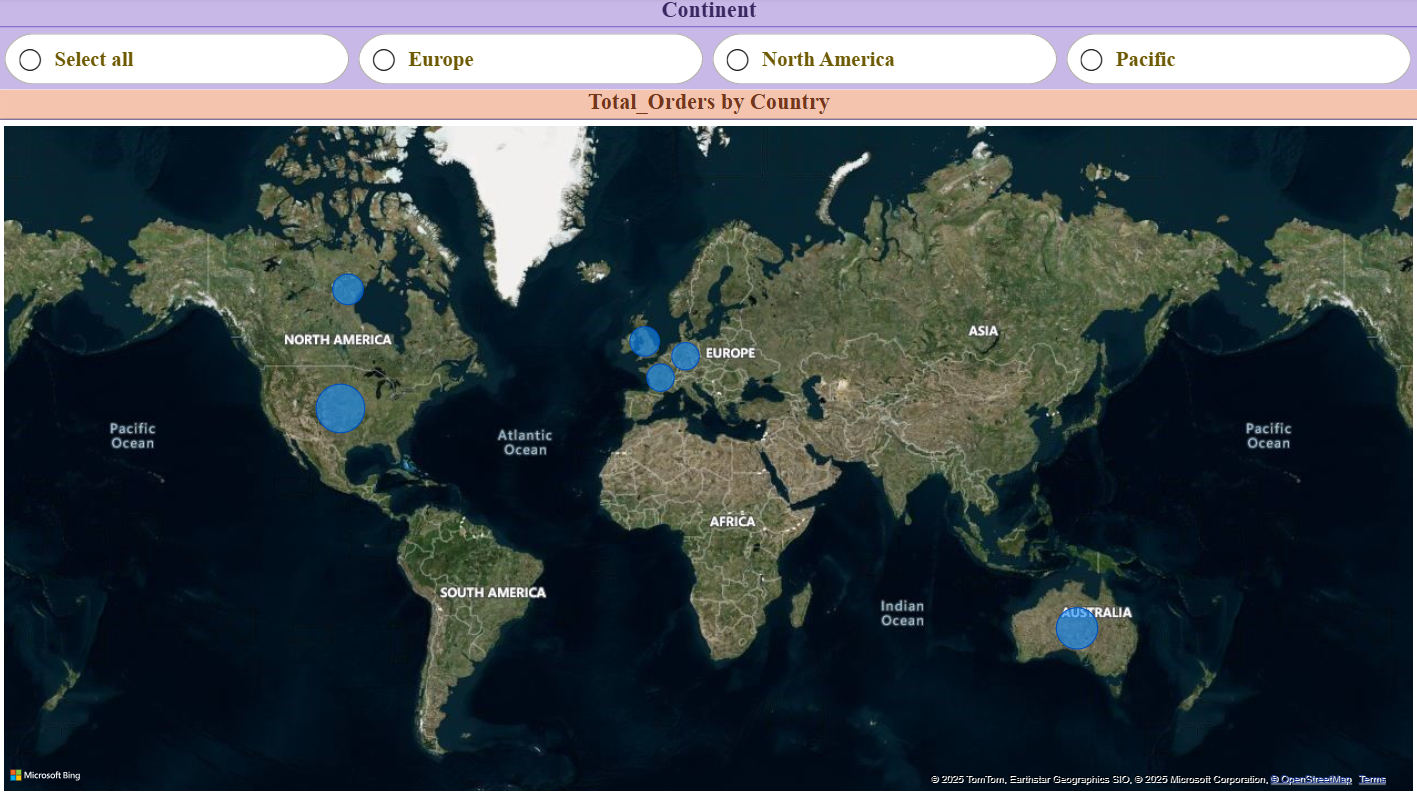

This screenshot's page, from the dashboard's own definition file:
{"tool":"powerbi","page":{"name":"Map","canvas":[1280,720],"ordinal":6},"visuals":[{"type":"map","fields":{"Category":["Territory Lookup.Country"],"Size":["Measure Table.Total_Orders"]},"box":[0,83.2,1280.3,637.1],"z":0},{"type":"advancedSlicerVisual","fields":{"Values":["Territory Lookup.Continent"]},"box":[0,0,1280.3,83.2],"z":1000}]}

Visuals, with their boxes in screenshot pixels (x1, y1, x2, y2), scaled from the page's 1280x720 canvas onto the 1417x792 screenshot:
map - Territory Lookup.Country x Measure Table.Total_Orders: <bbox>0, 92, 1416, 791</bbox>
advancedSlicerVisual - Territory Lookup.Continent: <bbox>0, 0, 1416, 92</bbox>
